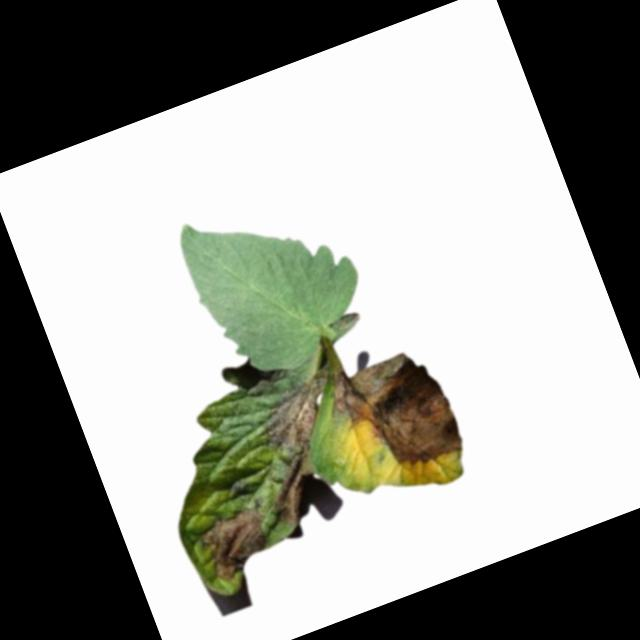Late_blight: (315, 333, 468, 491), (234, 368, 378, 531), (193, 500, 282, 586)
